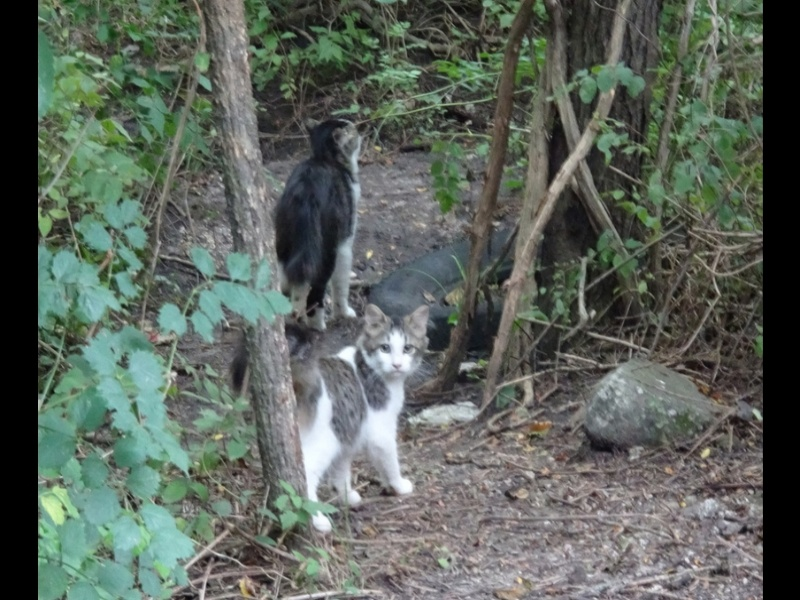cat: (237, 306, 436, 532), (256, 115, 362, 329)
